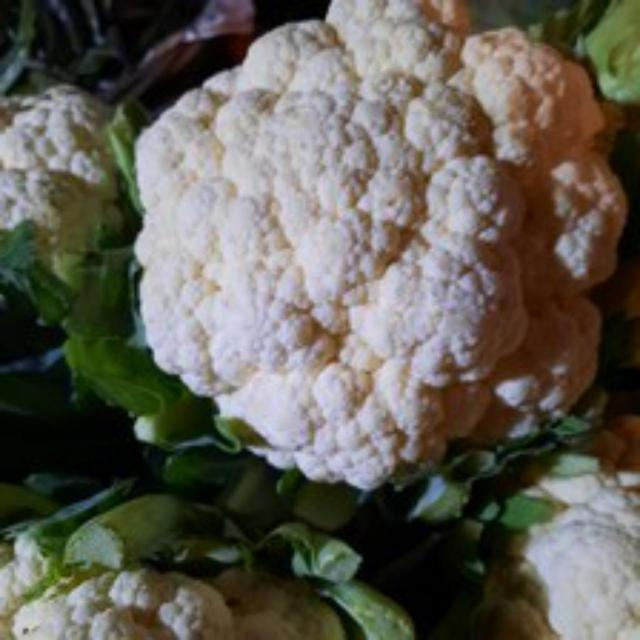cauliflower: (123, 0, 637, 500)
